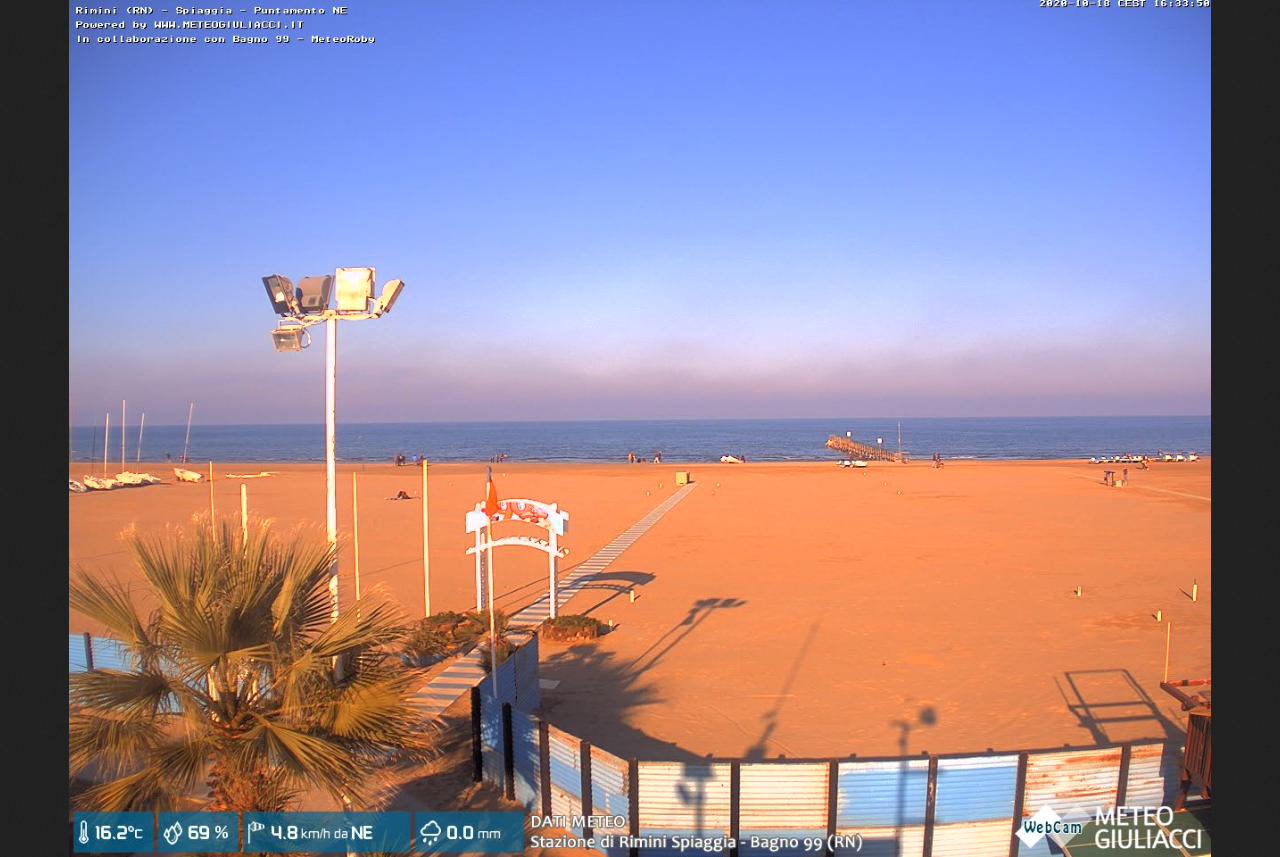no: (479, 461, 502, 516)
